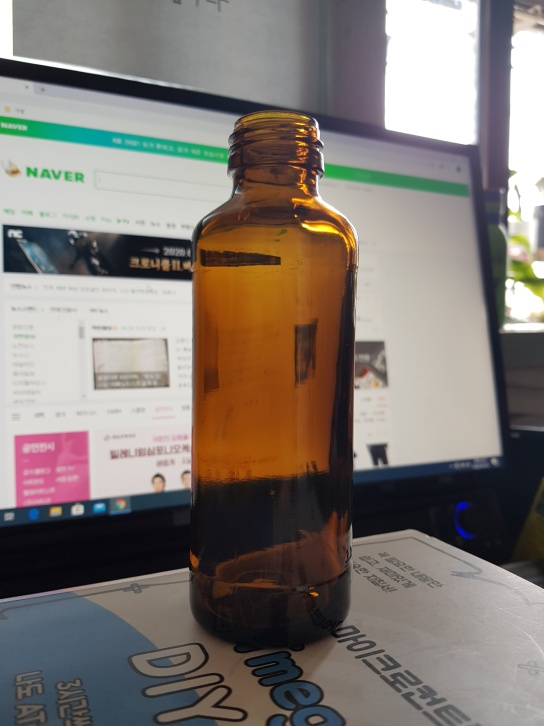Glass: (191, 108, 359, 649)
